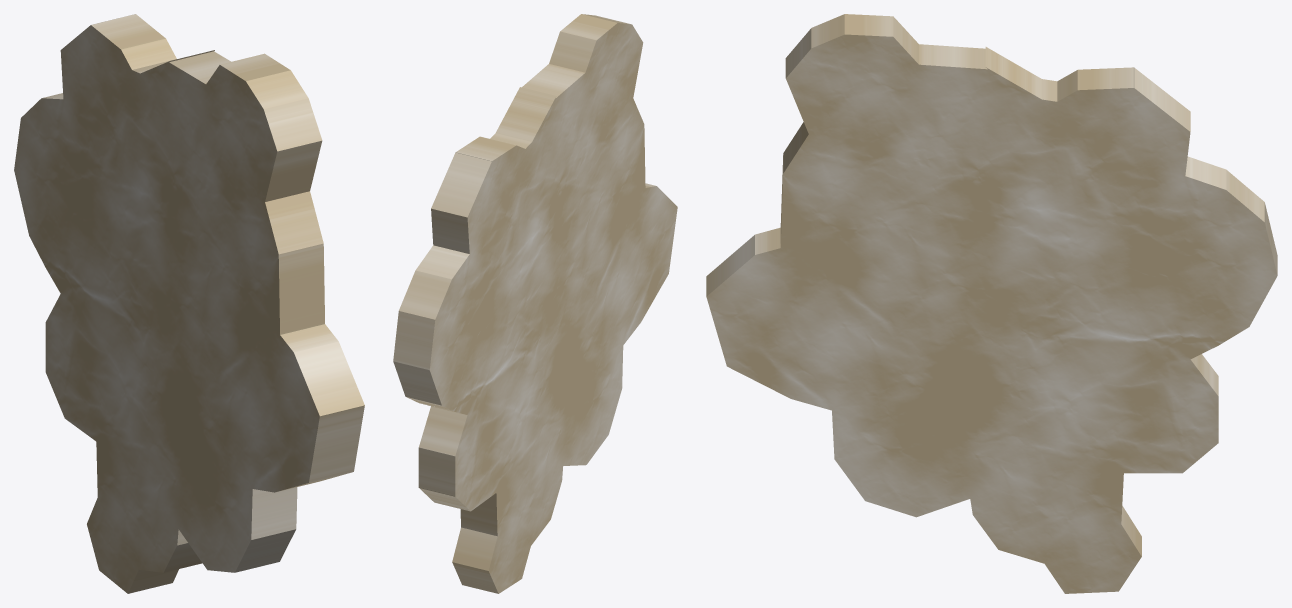
The model's file is FUMEE3.fbx.
3 views of the same model, side by side, from view 1: azimuth 30°, elevation 25°; view 2: azimuth 150°, elevation 25°; view 3: azimuth 270°, elevation 25° (orthographic). The views are drawn at different scales.
Visible parts, largest first — view 1: Vert.002; view 2: Vert.002; view 3: Vert.002.
Boxes of the visible parts, x1=… form: Vert.002: x1=14, y1=14, x2=364, y2=593; Vert.002: x1=393, y1=14, x2=677, y2=593; Vert.002: x1=706, y1=14, x2=1277, y2=593.
Size of the model in its own units: 5 by 63.56 by 58.82.
1 material, 1 textured.
